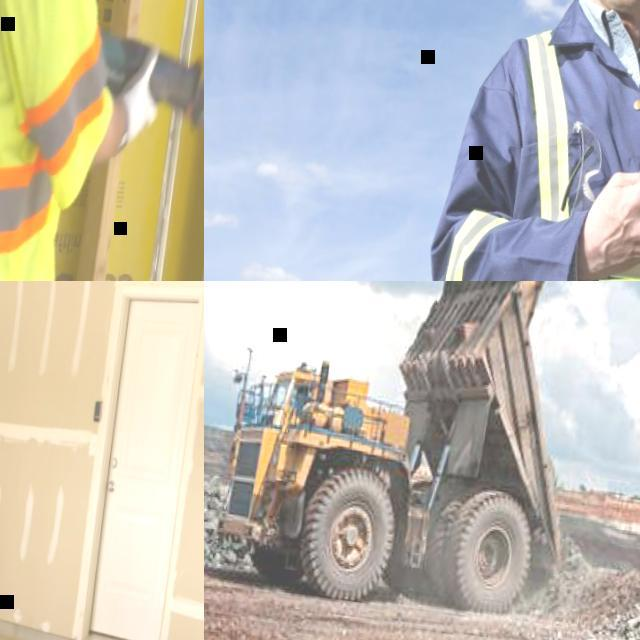vest: (437, 21, 640, 281), (0, 0, 145, 266)
